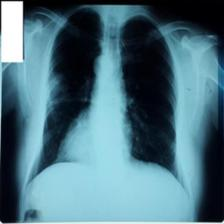tuberculosis: (24, 6, 183, 182)
